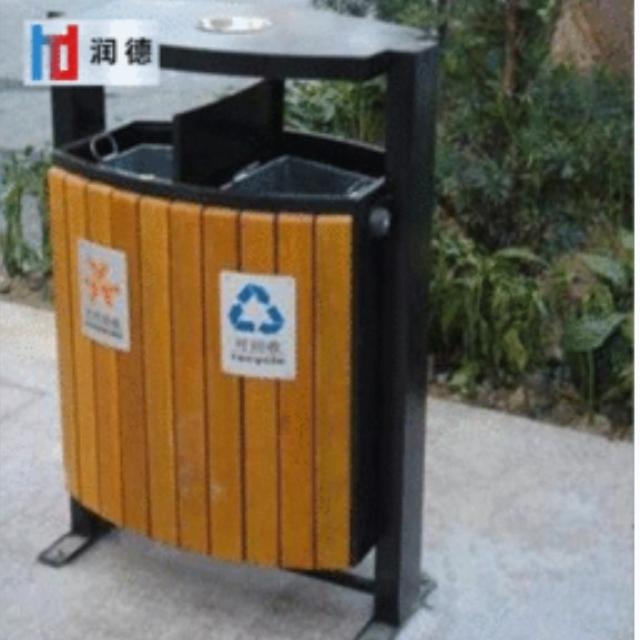garbage_bin: (35, 9, 436, 639)
